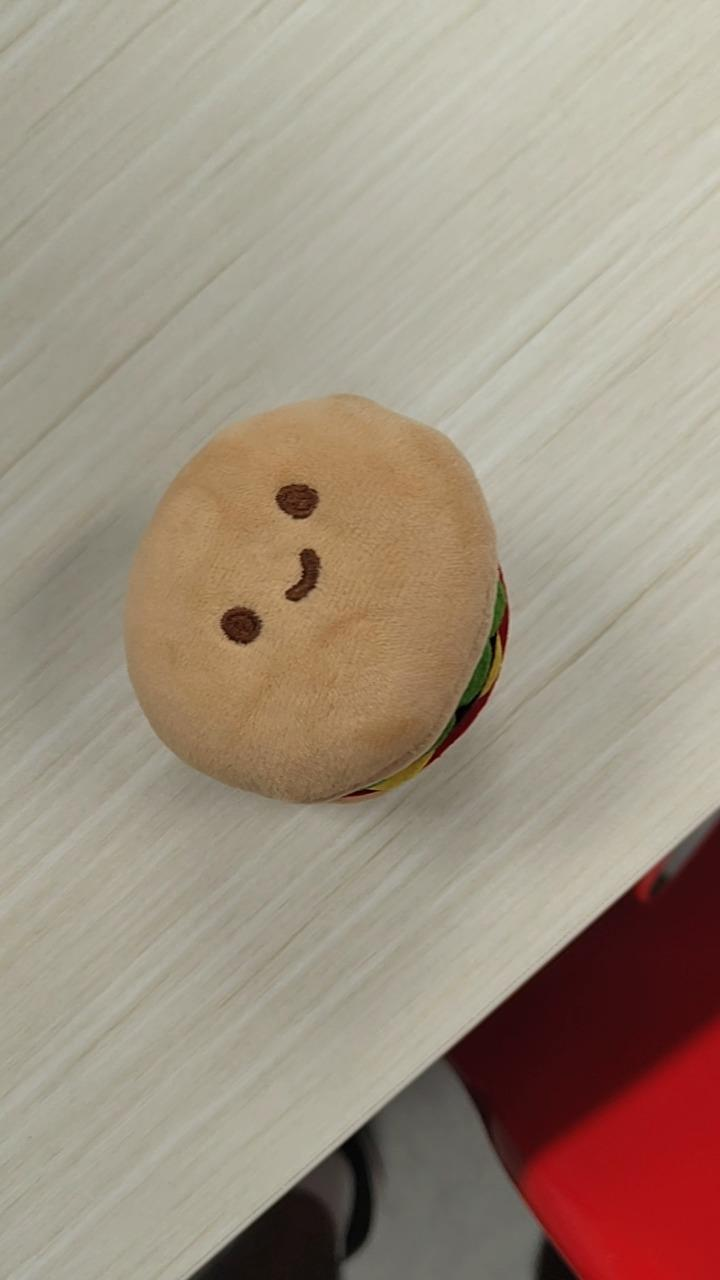hamburger: (122, 391, 511, 806)
